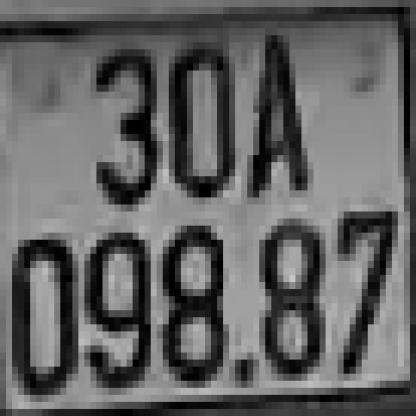0: (12, 233, 78, 395), (169, 50, 229, 198)
3: (96, 50, 157, 204)
7: (331, 204, 392, 366)
8: (259, 218, 320, 374), (163, 226, 217, 380)
9: (84, 232, 151, 380)
A: (241, 36, 302, 198)
